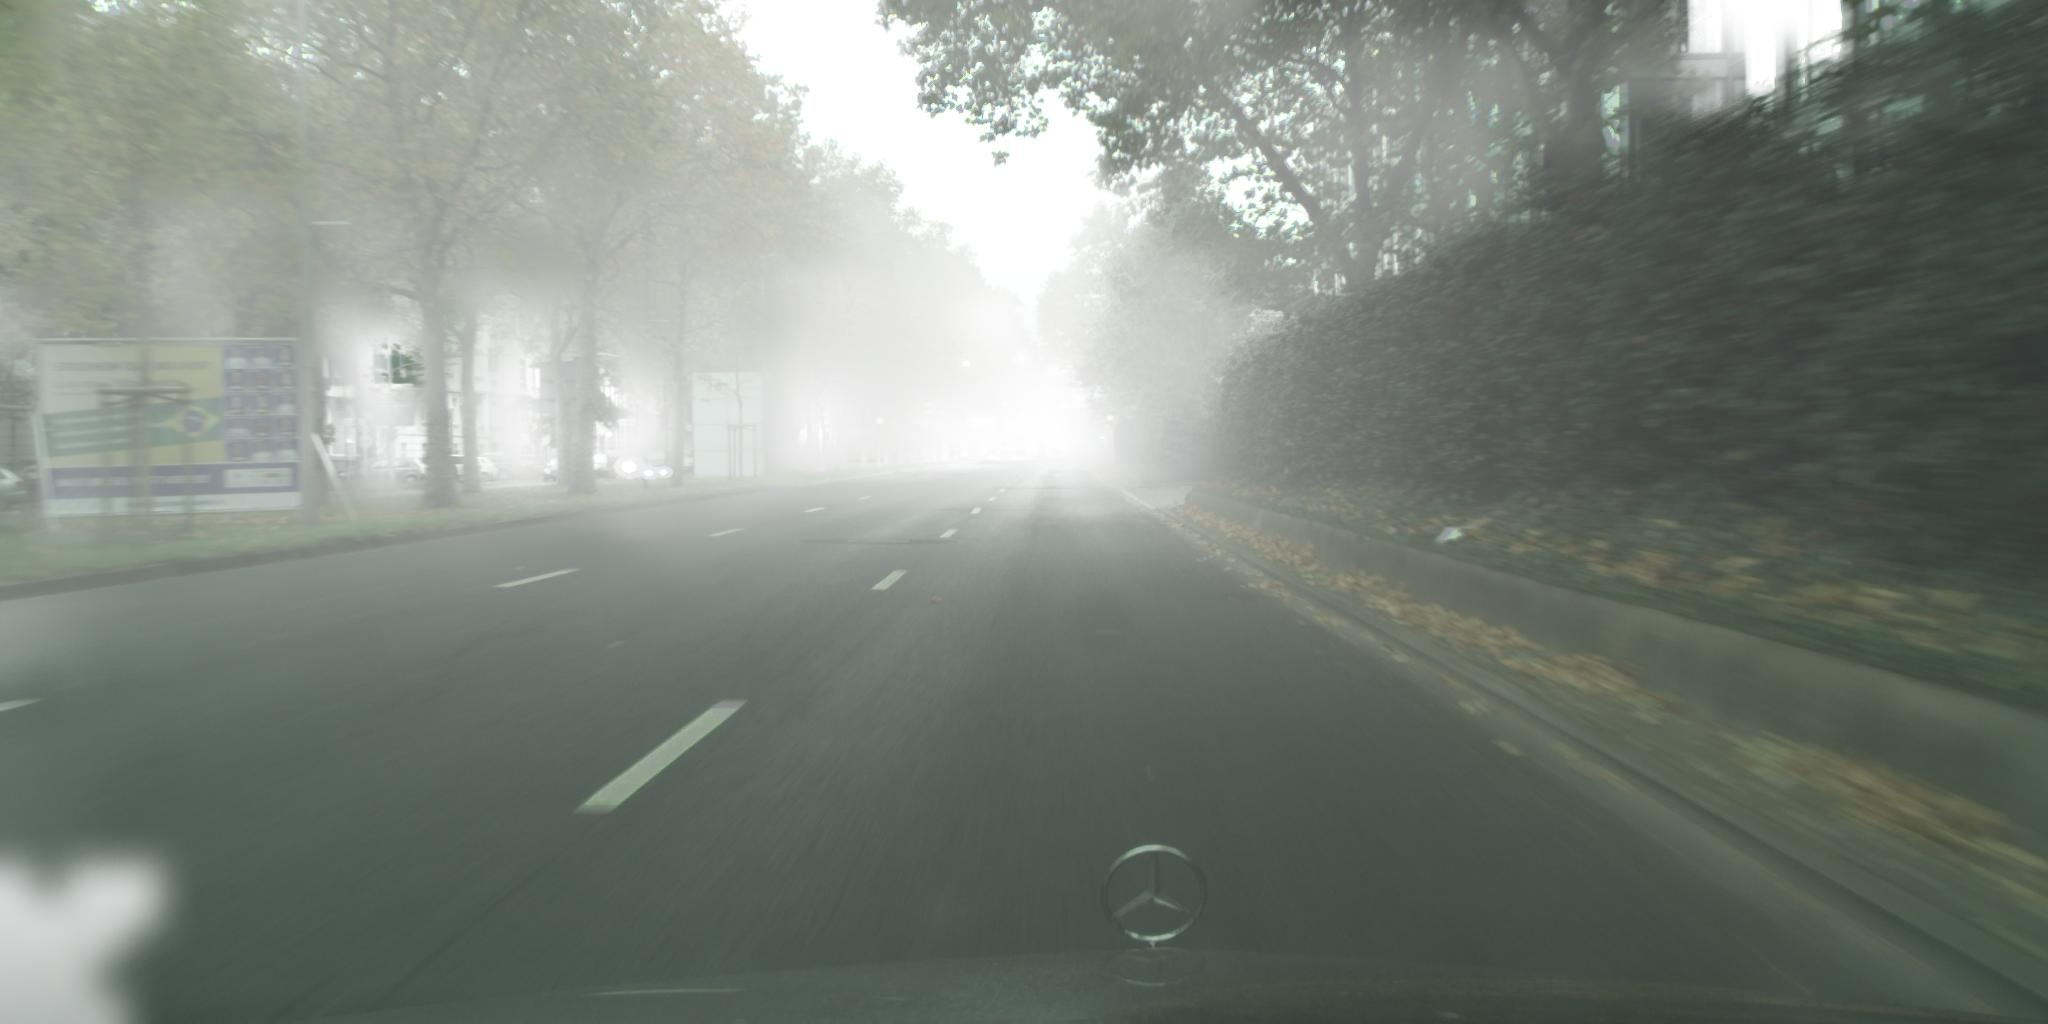car: (332, 458, 424, 491), (445, 455, 499, 485), (14, 465, 48, 505), (1, 466, 29, 512), (475, 452, 515, 482), (421, 458, 461, 487), (406, 458, 434, 488), (543, 457, 563, 481), (985, 448, 1003, 462), (1014, 449, 1027, 462)
